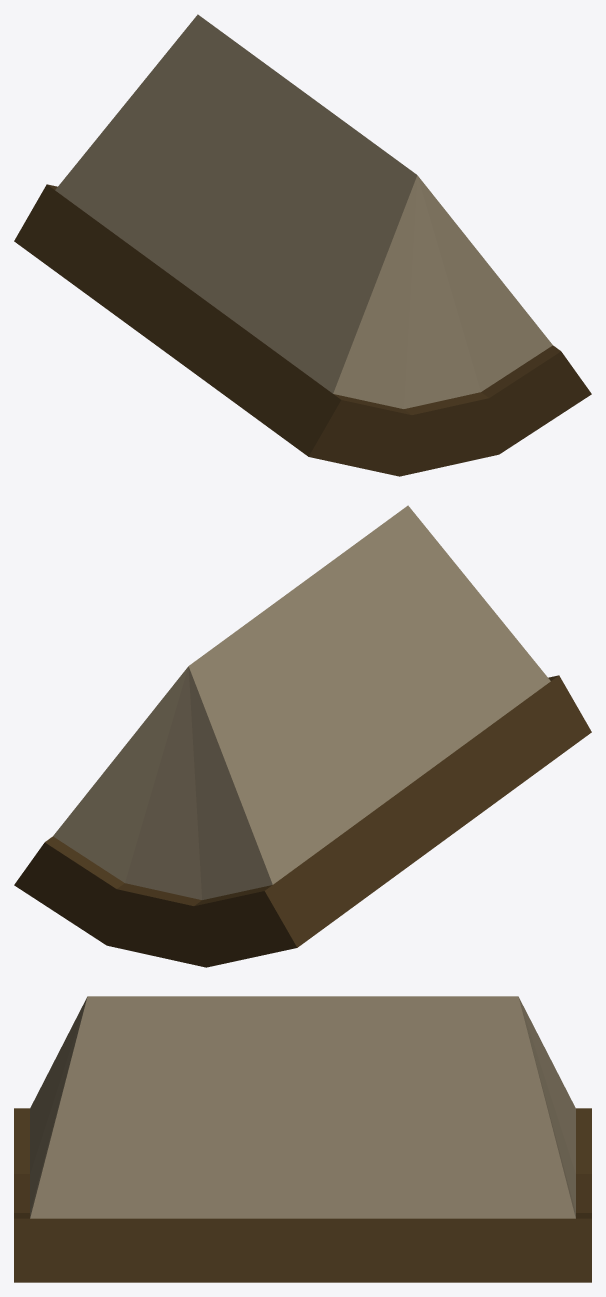
File: leña-cortada_lowpoly.fbx
3 views of the same model, one above another, from view 1: azimuth 30°, elevation 25°; view 2: azimuth 150°, elevation 25°; view 3: azimuth 270°, elevation 25° (orthographic).
Visible parts, largest first — view 1: Cylinder.039; view 2: Cylinder.039; view 3: Cylinder.039.
Part boxes in pixels (bbox=[...]): Cylinder.039: bbox=[14, 14, 591, 476]; Cylinder.039: bbox=[14, 505, 591, 967]; Cylinder.039: bbox=[14, 996, 591, 1282].
Size of the model in its own units: 111 by 98.48 by 200.
